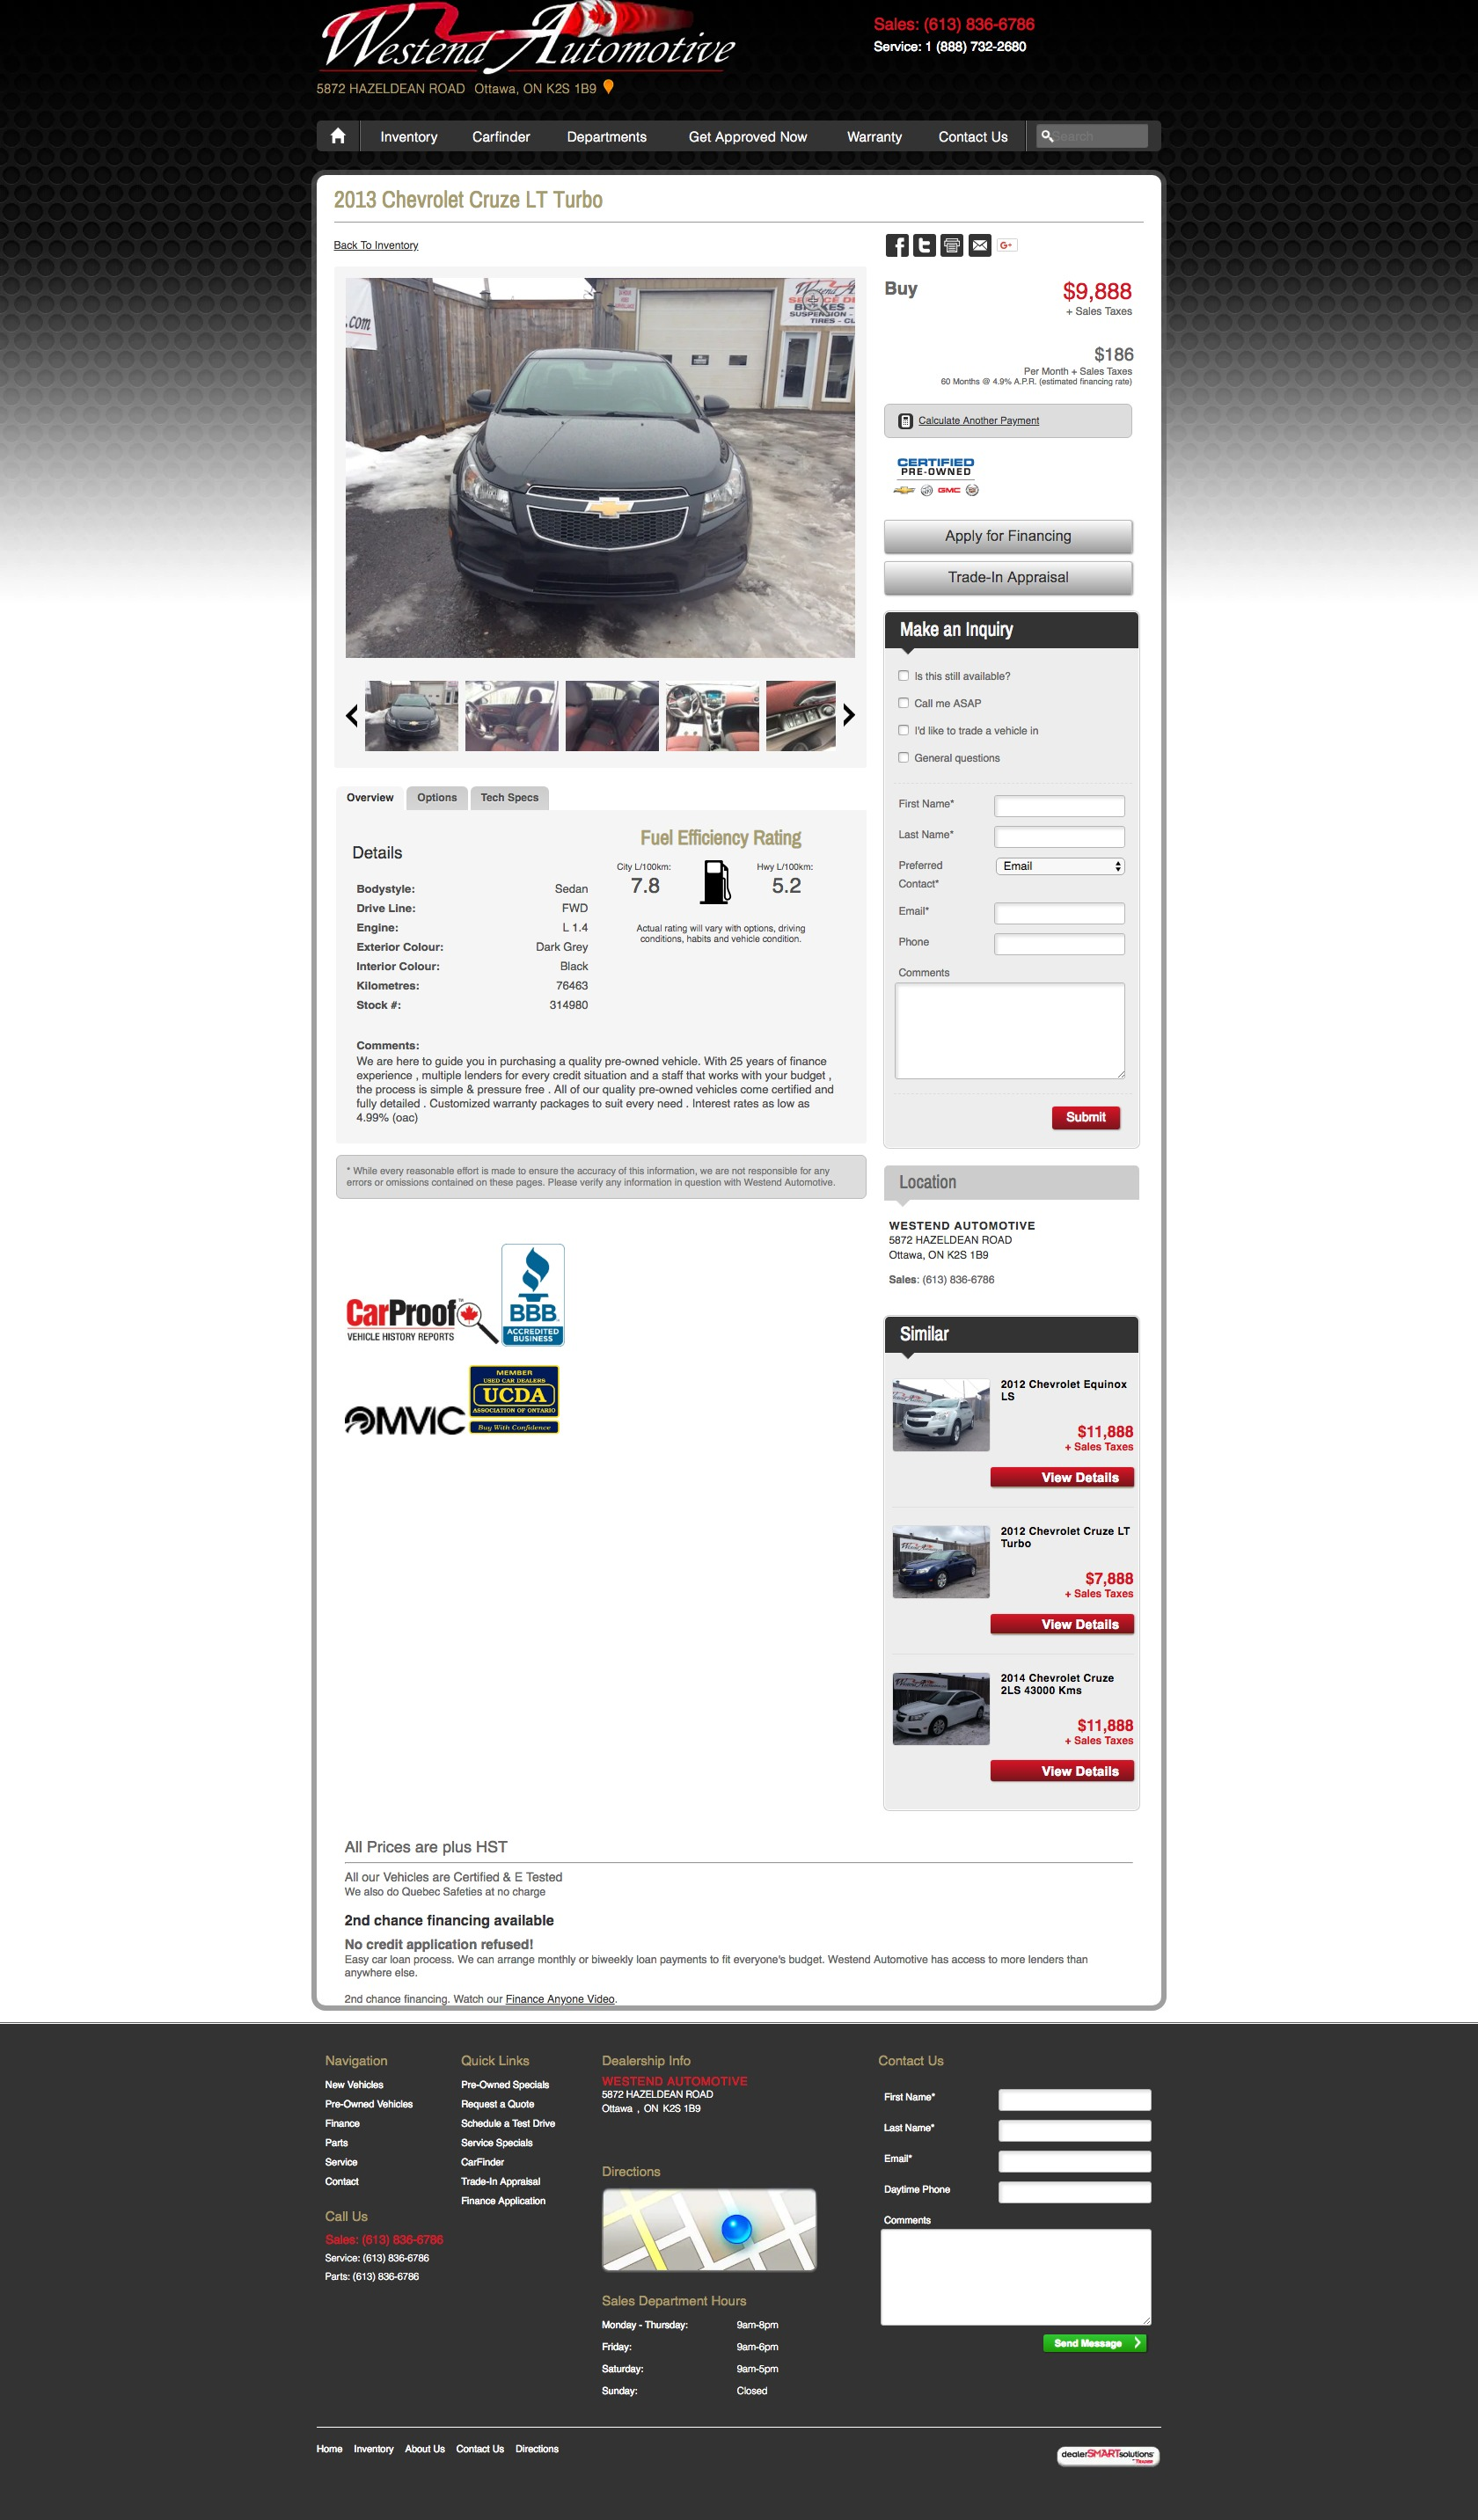car: (841, 702, 857, 728)
